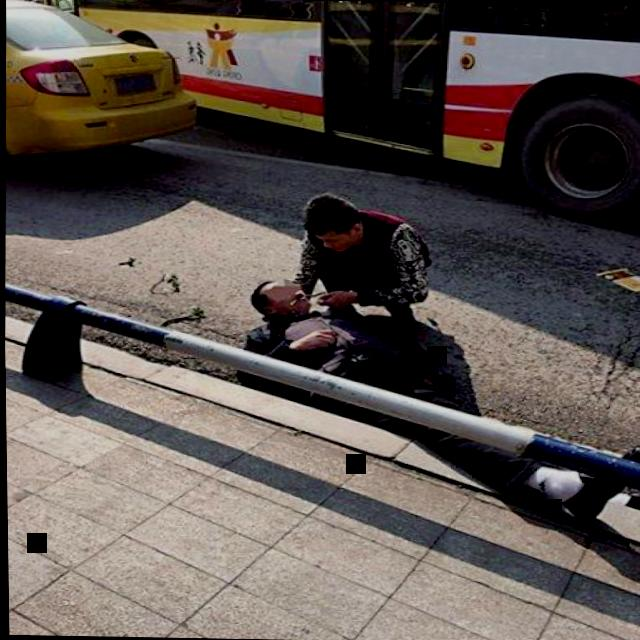Fall-Detected: (219, 265, 478, 425)
